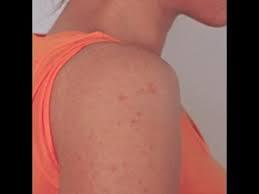Goosebumps: (50, 43, 179, 193)
